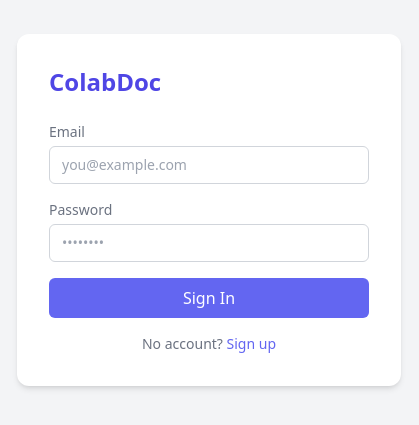
it: LoginPage › shows an error message when the API rejects the login
Step 1. Type "bad@example.com" into the field with placeholder "you@example.com" → (209, 165), box top-left (49, 146), bottom-right (369, 184)
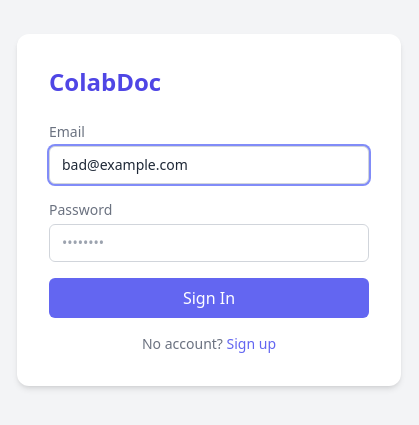
Step 2. Type "wrong" into the password field with placeholder "••••••••" → (209, 243), box top-left (49, 224), bottom-right (369, 262)
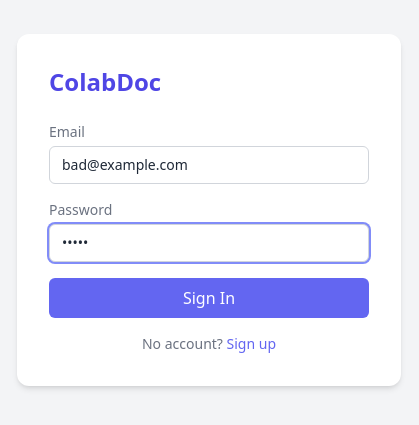
Step 3. Click the button "Sign In" → (209, 298), box top-left (49, 278), bottom-right (369, 318)
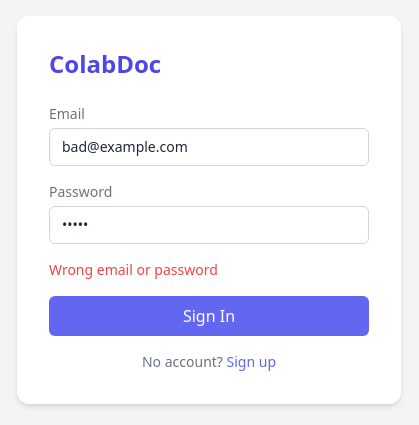
Check: the text "Wrong email or password" is shown, box top-left (49, 260), bottom-right (218, 279)
